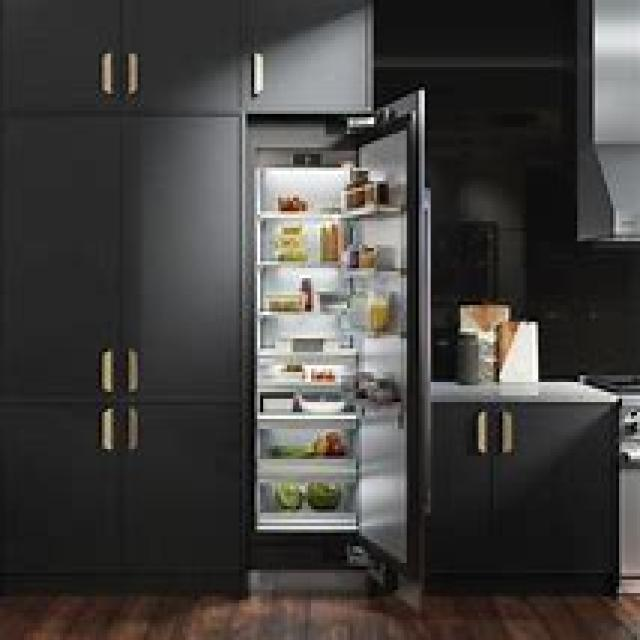fridge: (242, 87, 431, 597)
